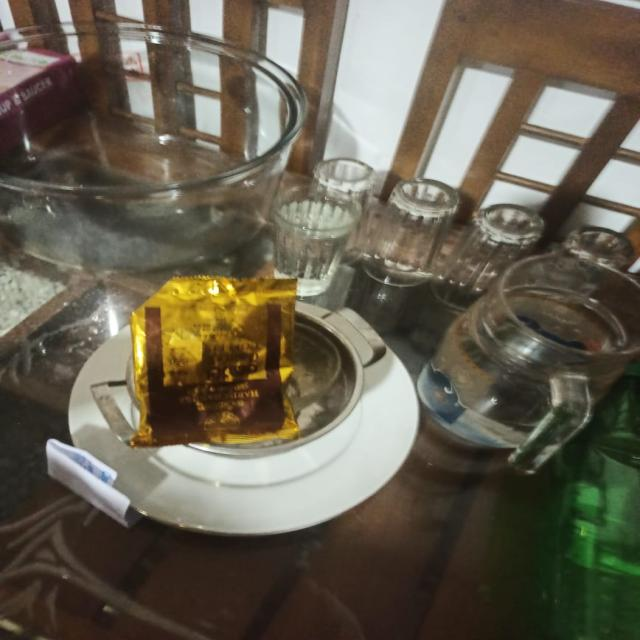Harischandra Coffee: (101, 266, 329, 465)
